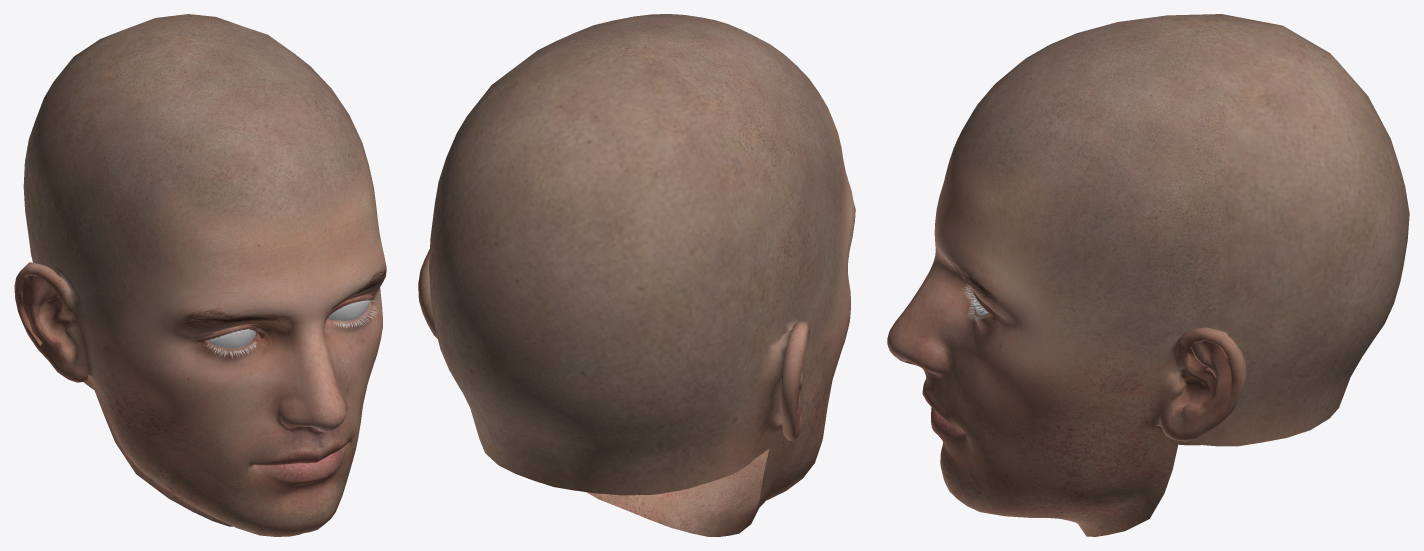
File: Male.obj
3 views of the same model, side by side, from view 1: azimuth 30°, elevation 25°; view 2: azimuth 150°, elevation 25°; view 3: azimuth 270°, elevation 25° (orthographic). The views are drawn at different scales.
Visible parts, largest first — view 1: head, rEye, lEye; view 2: head; view 3: head.
Part boxes in pixels (x1,y1,x2,y2): head: [14, 14, 386, 536]; rEye: [207, 329, 256, 348]; lEye: [327, 300, 369, 321]; head: [418, 14, 855, 536]; head: [887, 14, 1409, 536].
Size of the model in its own units: 18.04 by 24.01 by 22.76.
